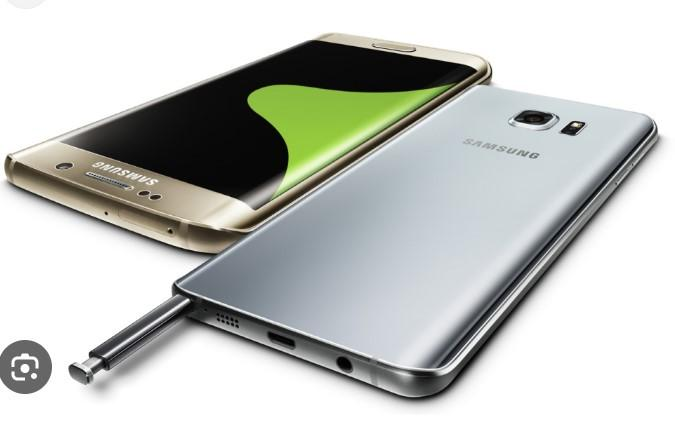Smart Phone: (93, 88, 652, 398), (3, 32, 493, 255)
